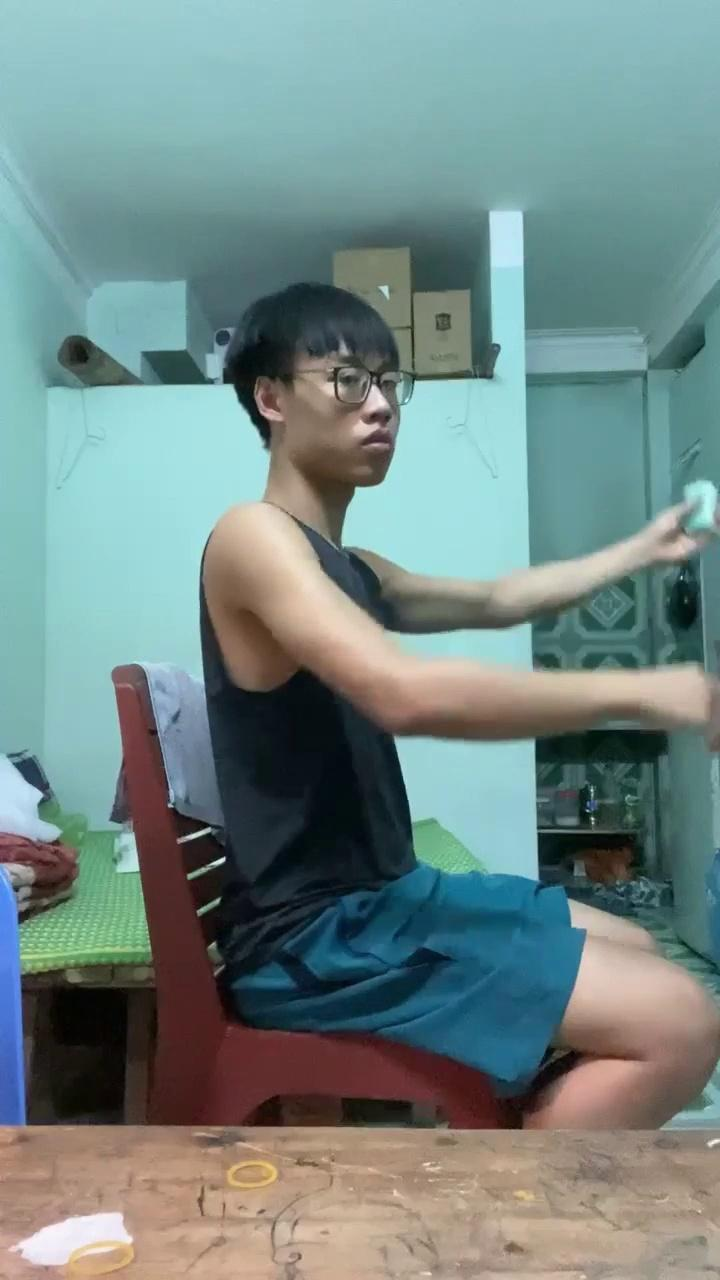GoodPosture: (200, 282, 719, 1124)
